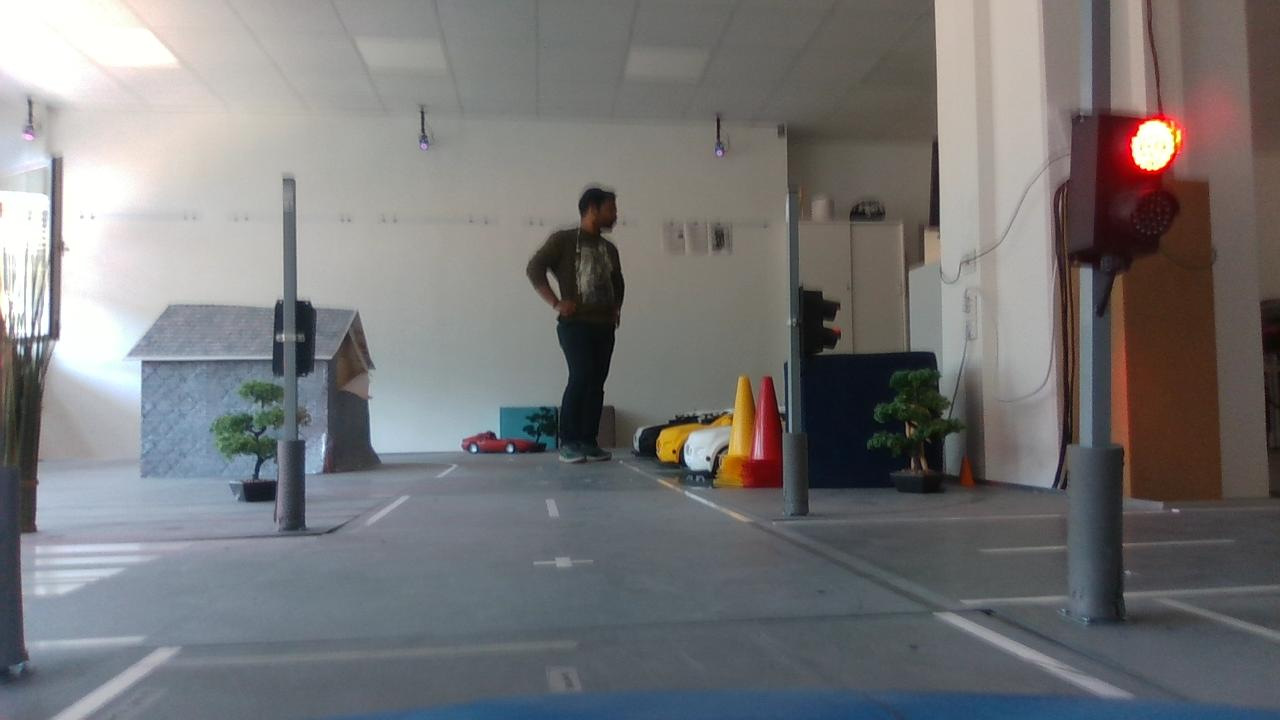traffic_light_red: (1049, 99, 1198, 275)
